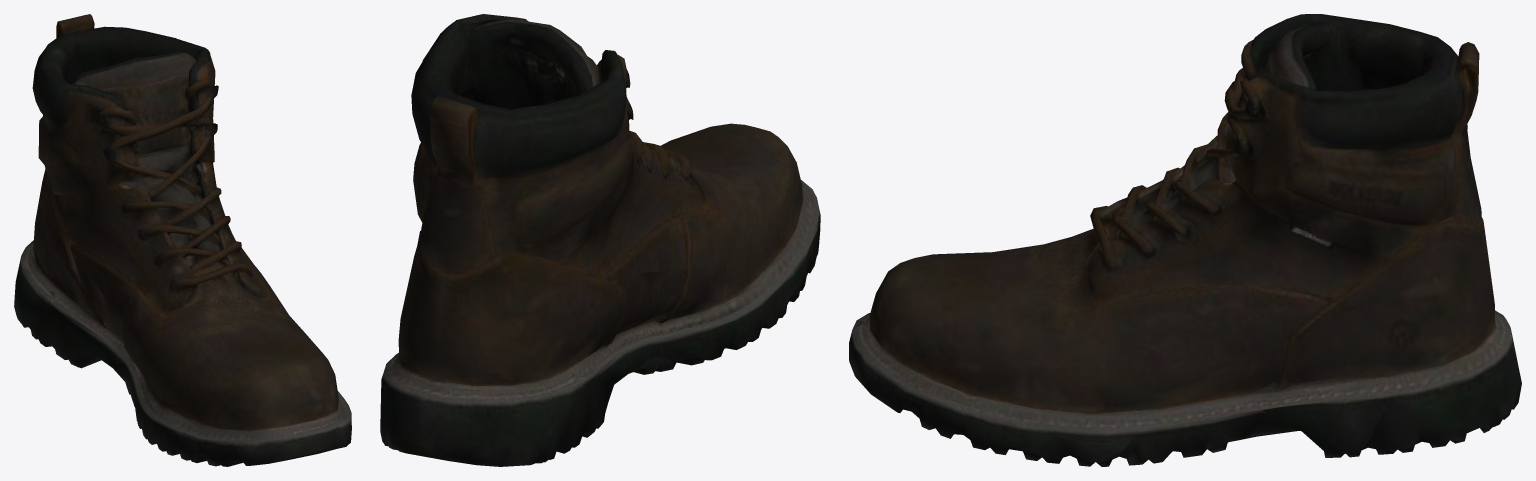
The model's file is item.armor.leather_boots.glb.
The picture shows the model from 3 angles, left to right: view 1: azimuth 30°, elevation 25°; view 2: azimuth 150°, elevation 25°; view 3: azimuth 270°, elevation 25°; orthographic projection. The views are drawn at different scales.
Parts seen in each view (by area): view 1: sh_wolverineBoot2; view 2: sh_wolverineBoot2; view 3: sh_wolverineBoot2.
Boxes of the visible parts, x1,y1,x2,y2 form: sh_wolverineBoot2: [14, 14, 351, 466]; sh_wolverineBoot2: [380, 14, 820, 466]; sh_wolverineBoot2: [849, 14, 1521, 466].
Size of the model in its own units: 0.4514 by 0.7447 by 1.2.
1 material, 1 textured.
